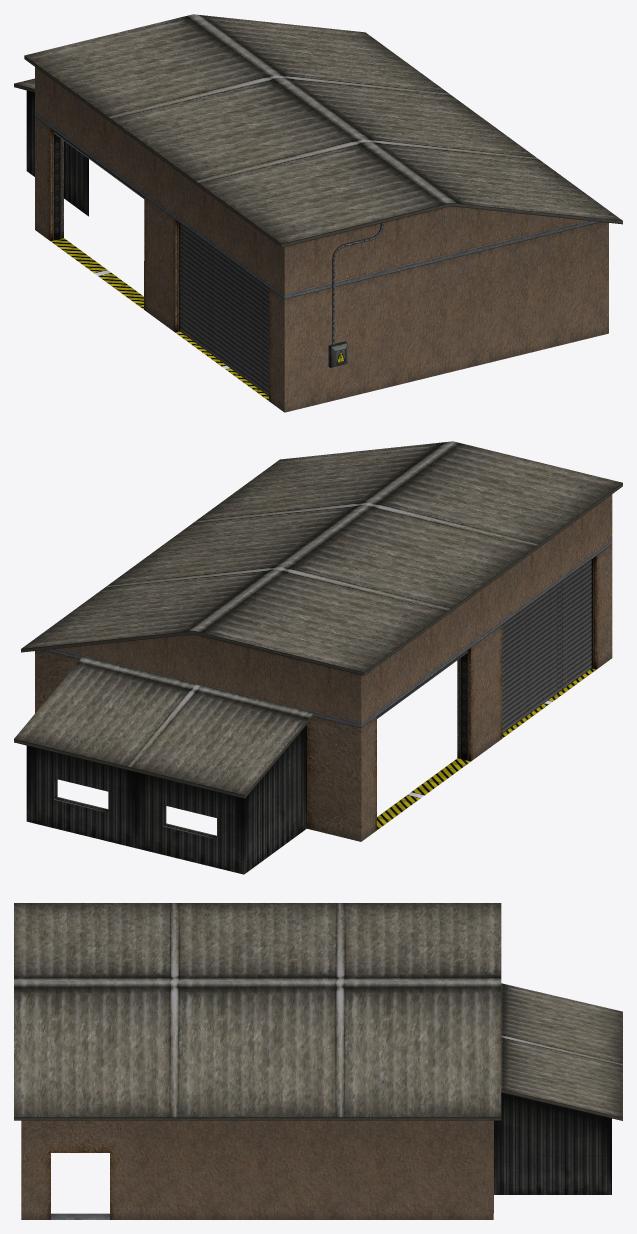
Rendered from Mission1_Garage_Exterior.glb.
3 renders of one model, top to bottom at view 1: azimuth 30°, elevation 25°; view 2: azimuth 150°, elevation 25°; view 3: azimuth 270°, elevation 25°, orthographic. The views are drawn at different scales.
Visible parts, largest first — view 1: MISSION1_GARAGE_EXTERIOR; view 2: MISSION1_GARAGE_EXTERIOR; view 3: MISSION1_GARAGE_EXTERIOR.
Boxes of the visible parts, box(x1,y1,x2,y2) form: MISSION1_GARAGE_EXTERIOR: box(14, 14, 622, 412); MISSION1_GARAGE_EXTERIOR: box(14, 441, 622, 874); MISSION1_GARAGE_EXTERIOR: box(14, 903, 622, 1219).
Size of the model in its own units: 12.62 by 6.12 by 20.62.
Materials: 14 (14 with a texture image).
